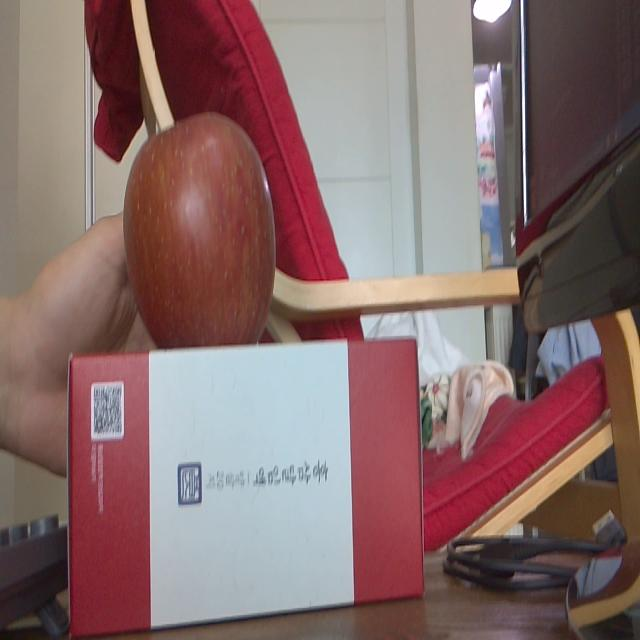apple: (125, 111, 278, 343)
